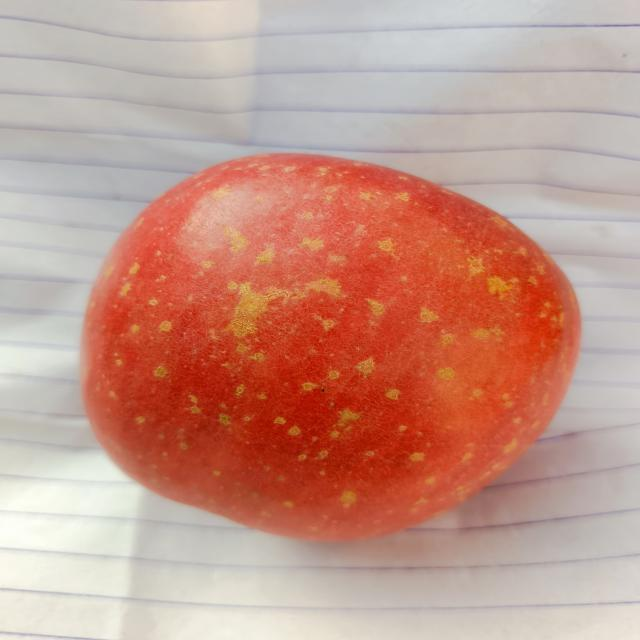Fresh Apple: (91, 158, 576, 550)
